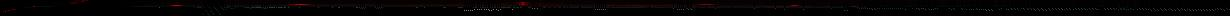Blue cone: (24, 7, 30, 8), (11, 9, 15, 10)
Yellow cone: (515, 2, 531, 6), (789, 5, 800, 7), (824, 6, 829, 8)
